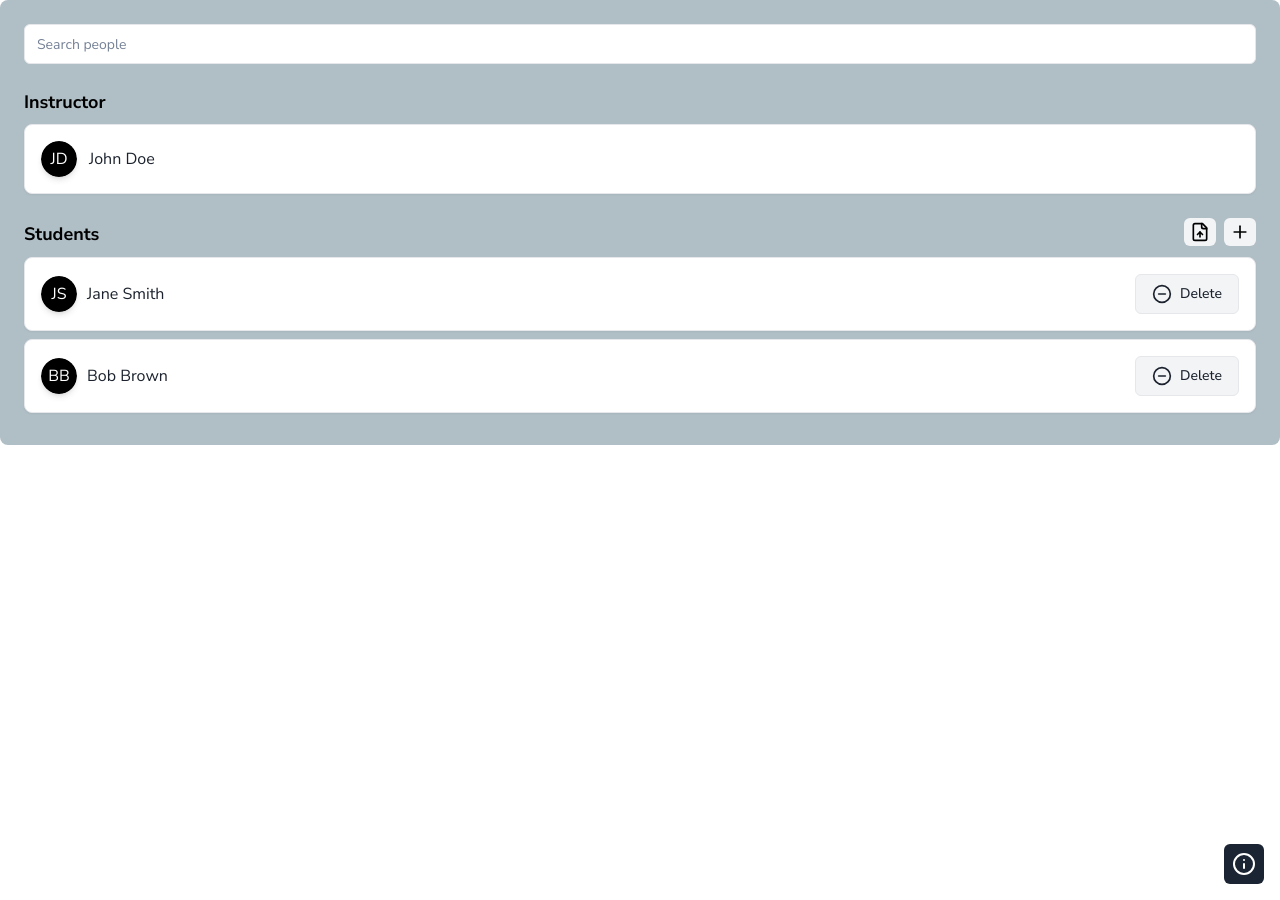
it: People component › filters students based on search term
Expected: the text "Jane Smith" is shown, [87,282,164,306]
Type "Jane" into the field with placeholder "Search people".
click(640, 44); type("Jane")  # box [24,24,1256,64]
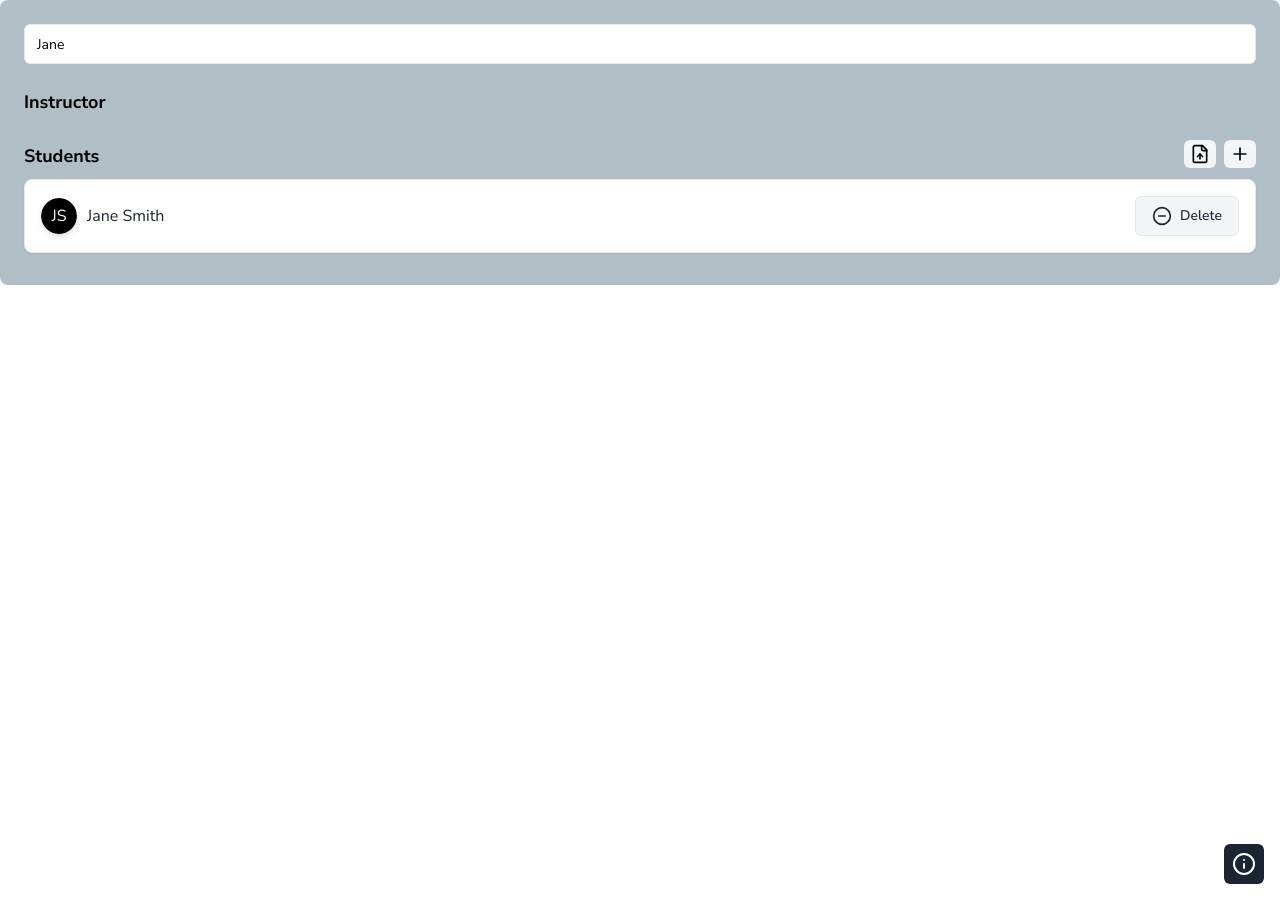
Expected: the text "Jane Smith" is shown, [87,204,164,228]
Now the text "Bob Brown" is gone
